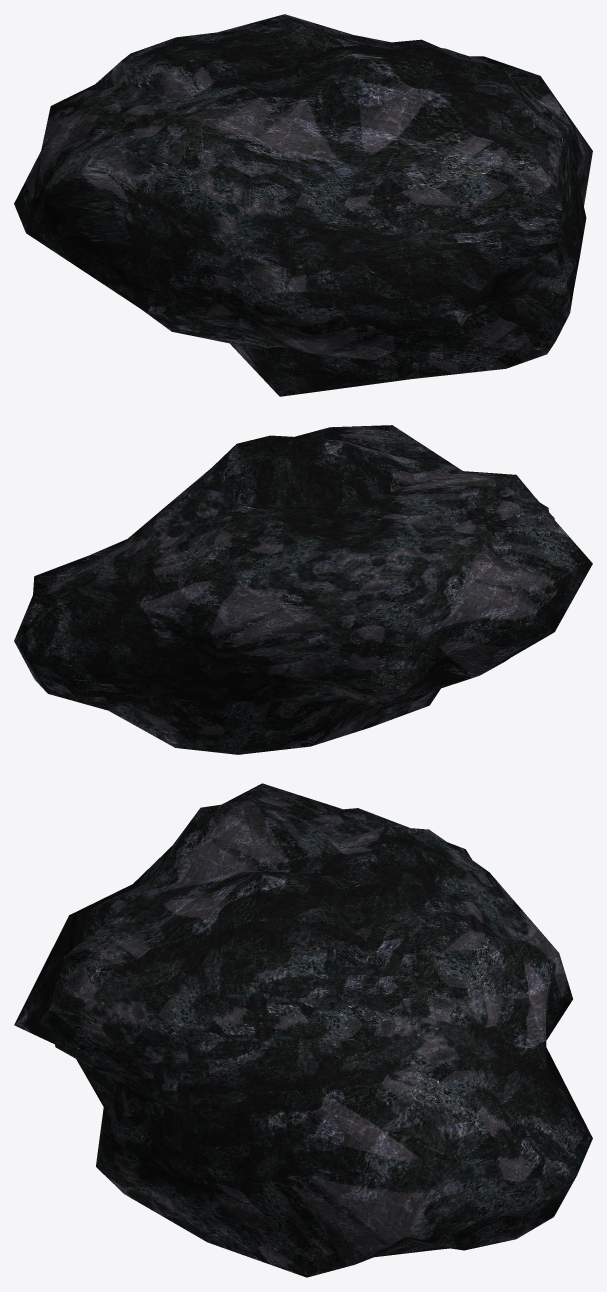
The model's file is asteroid_obsidian_medium_s02_l1.fbx.
3 renders of one model, top to bottom at view 1: azimuth 30°, elevation 25°; view 2: azimuth 150°, elevation 25°; view 3: azimuth 270°, elevation 25°, orthographic. The views are drawn at different scales.
Visible parts, largest first — view 1: mesh_node; view 2: mesh_node; view 3: mesh_node.
Part boxes in pixels (left/top/right/bottom): mesh_node: left=14, top=14, right=592, bottom=396; mesh_node: left=14, top=425, right=592, bottom=754; mesh_node: left=14, top=783, right=592, bottom=1277.
Bounding box in the file's own units: 85.19 × 43.12 × 71.47.
